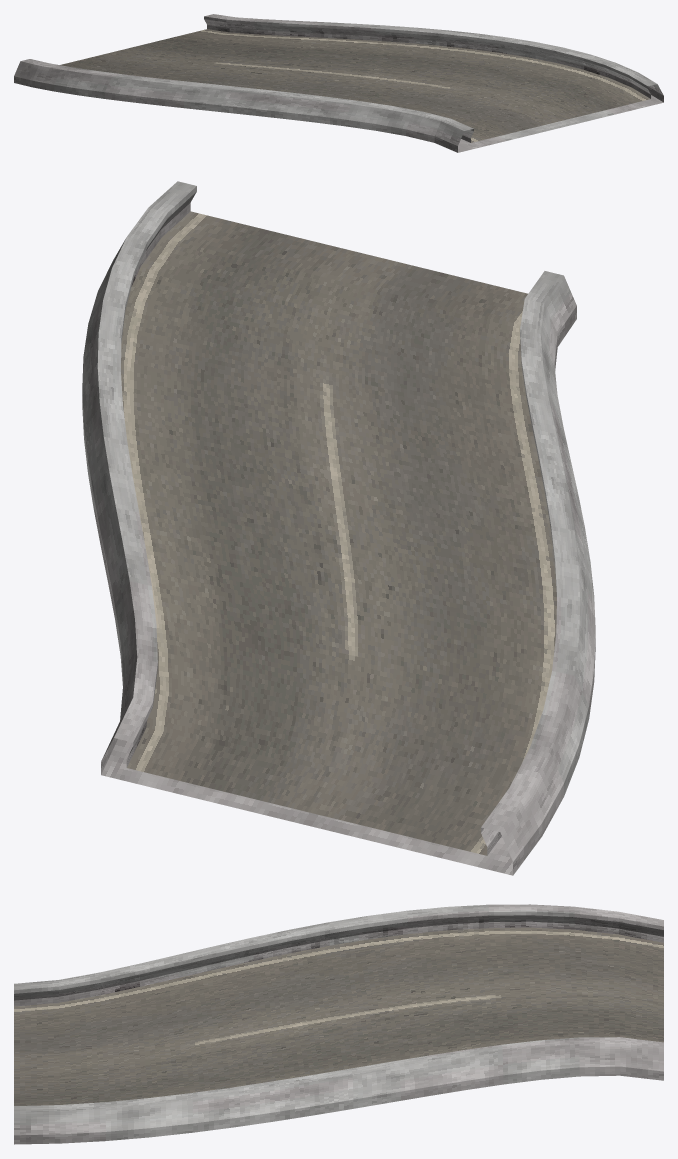
File: chicane-left1x2.glb
3 renders of one model, top to bottom at view 1: azimuth 30°, elevation 25°; view 2: azimuth 150°, elevation 25°; view 3: azimuth 270°, elevation 25°, orthographic. The views are drawn at different scales.
Parts seen in each view (by area): view 1: road-Chicane-Flat-BiSlopeDown-Down1-Left1-Size2; view 2: road-Chicane-Flat-BiSlopeDown-Down1-Left1-Size2; view 3: road-Chicane-Flat-BiSlopeDown-Down1-Left1-Size2.
Part boxes in pixels (x1,y1,x2,y2): road-Chicane-Flat-BiSlopeDown-Down1-Left1-Size2: (14,14,663,152); road-Chicane-Flat-BiSlopeDown-Down1-Left1-Size2: (82,181,595,875); road-Chicane-Flat-BiSlopeDown-Down1-Left1-Size2: (14,904,663,1144).
Size of the model in its own units: 2 by 0.3438 by 2.
Materials: 2 (2 with a texture image).
